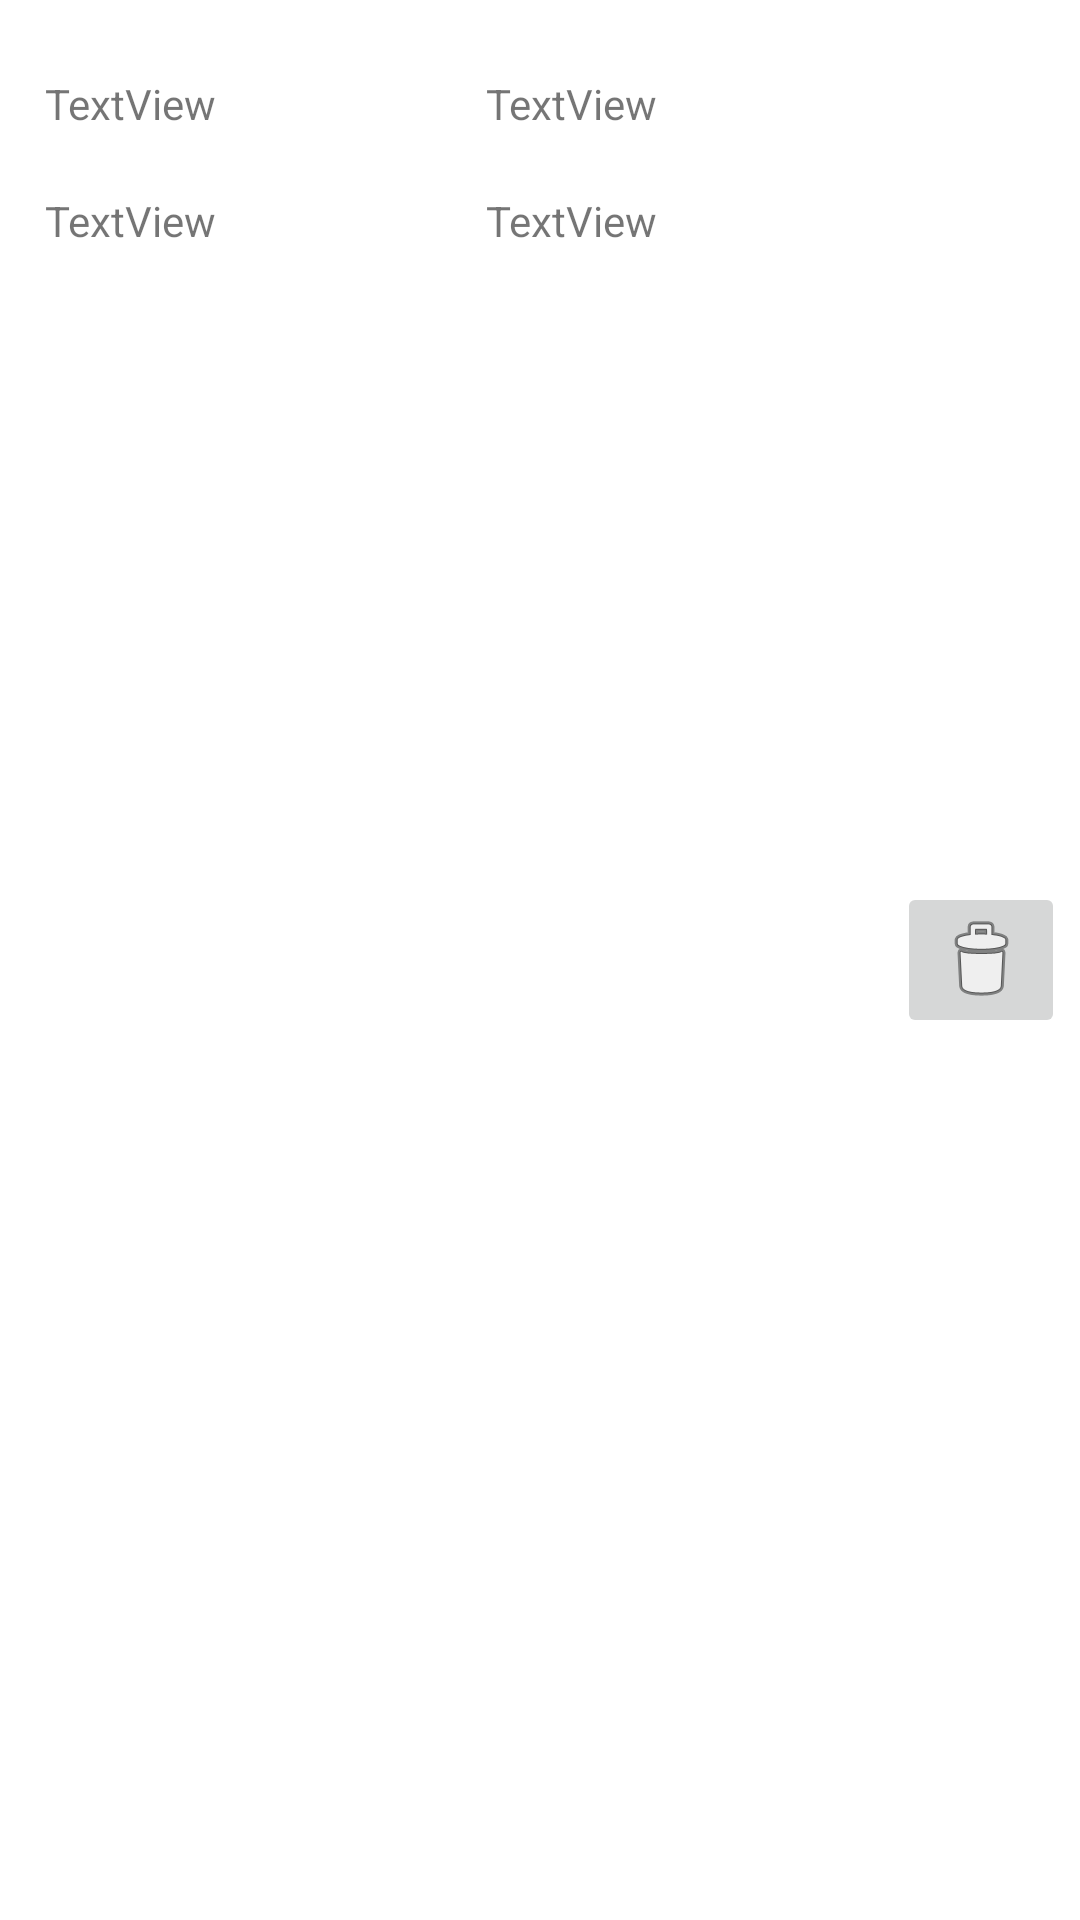

Screen size 1080w x 1920h. Icon name, then its center in pixels as (x=x, y=y):
delete: (x=981, y=960)
